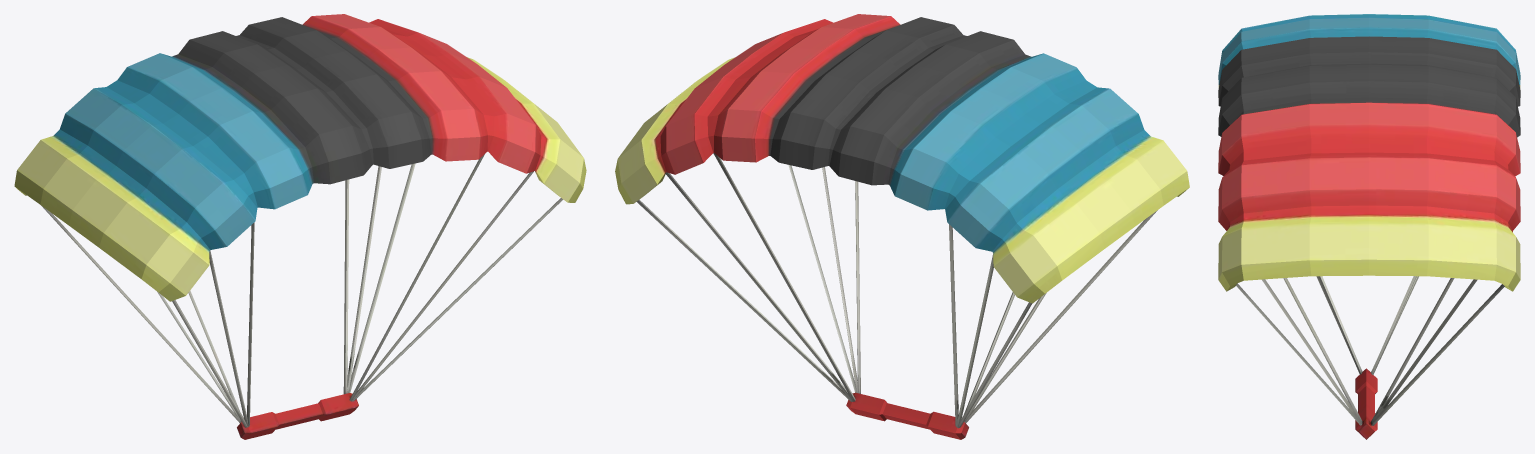
The model's file is 3Z7vJ96JIEB.glb.
The picture shows the model from 3 angles, left to right: view 1: azimuth 30°, elevation 25°; view 2: azimuth 150°, elevation 25°; view 3: azimuth 270°, elevation 25°; orthographic projection.
Visible parts, largest first — view 1: Parachute_mesh; view 2: Parachute_mesh; view 3: Parachute_mesh.
Boxes of the visible parts, x1=… form: Parachute_mesh: x1=14, y1=14, x2=586, y2=439; Parachute_mesh: x1=615, y1=14, x2=1189, y2=439; Parachute_mesh: x1=1218, y1=14, x2=1520, y2=439.
Size of the model in its own units: 1.33 by 1 by 0.764.
1 material, 1 textured.
